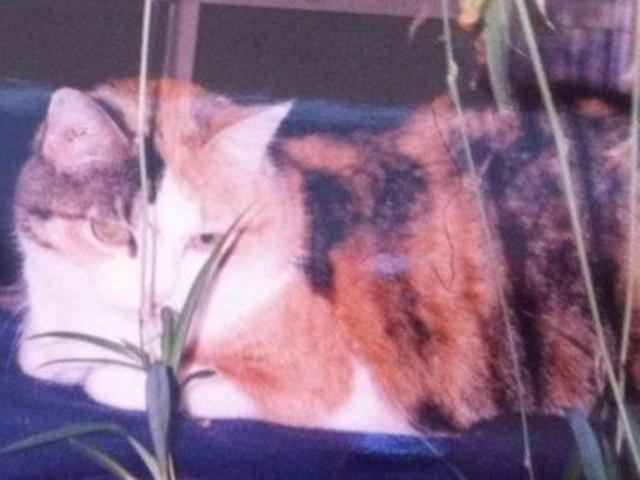Cat: (12, 78, 638, 436)
